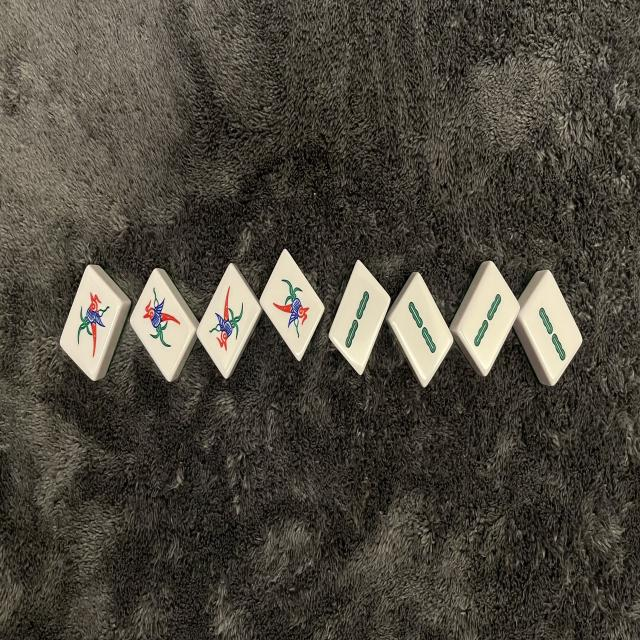1B: (129, 268, 198, 381), (61, 265, 126, 381), (258, 250, 326, 360), (197, 263, 263, 376)
2B: (387, 272, 456, 384), (518, 270, 584, 383), (328, 264, 392, 372), (456, 264, 520, 372)
